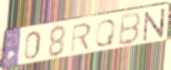0: (22, 30, 43, 62)
8: (47, 24, 68, 59)
B: (116, 11, 143, 48)
N: (142, 6, 167, 43)
Q: (93, 18, 118, 48)
R: (69, 21, 93, 54)
